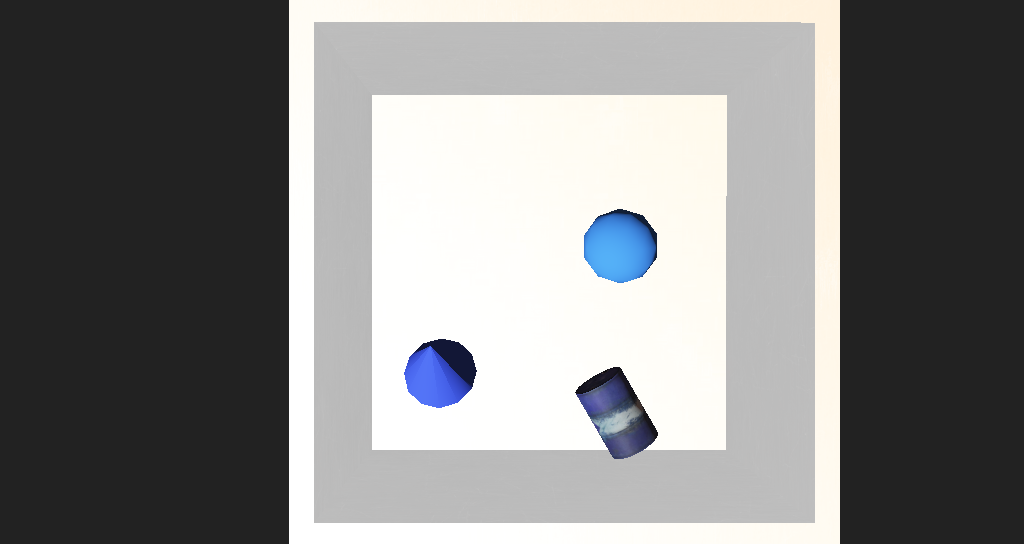cone: (529, 324, 603, 382)
cylinder: (374, 286, 448, 353)
sphere: (536, 229, 596, 277)
